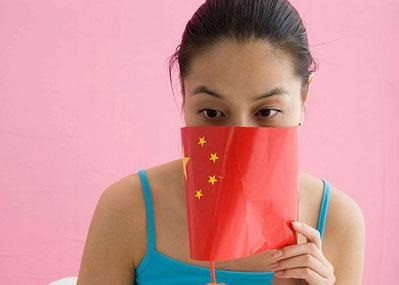face_mask: (183, 49, 301, 192)
